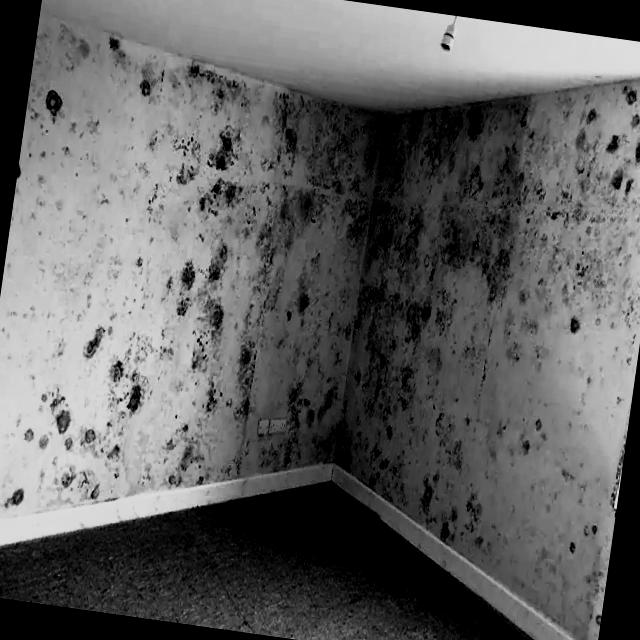stain marks: (39, 6, 637, 618)
